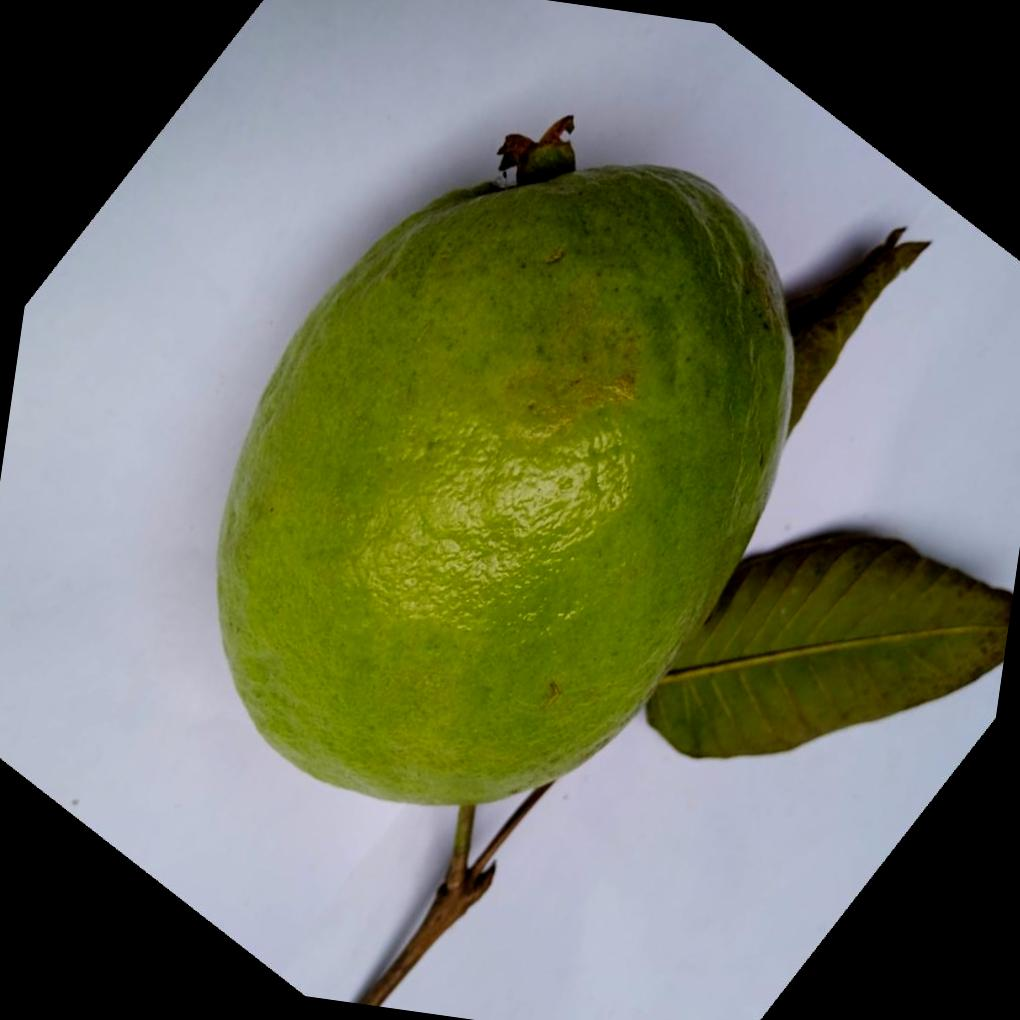FreshGuava: (213, 138, 921, 809)
